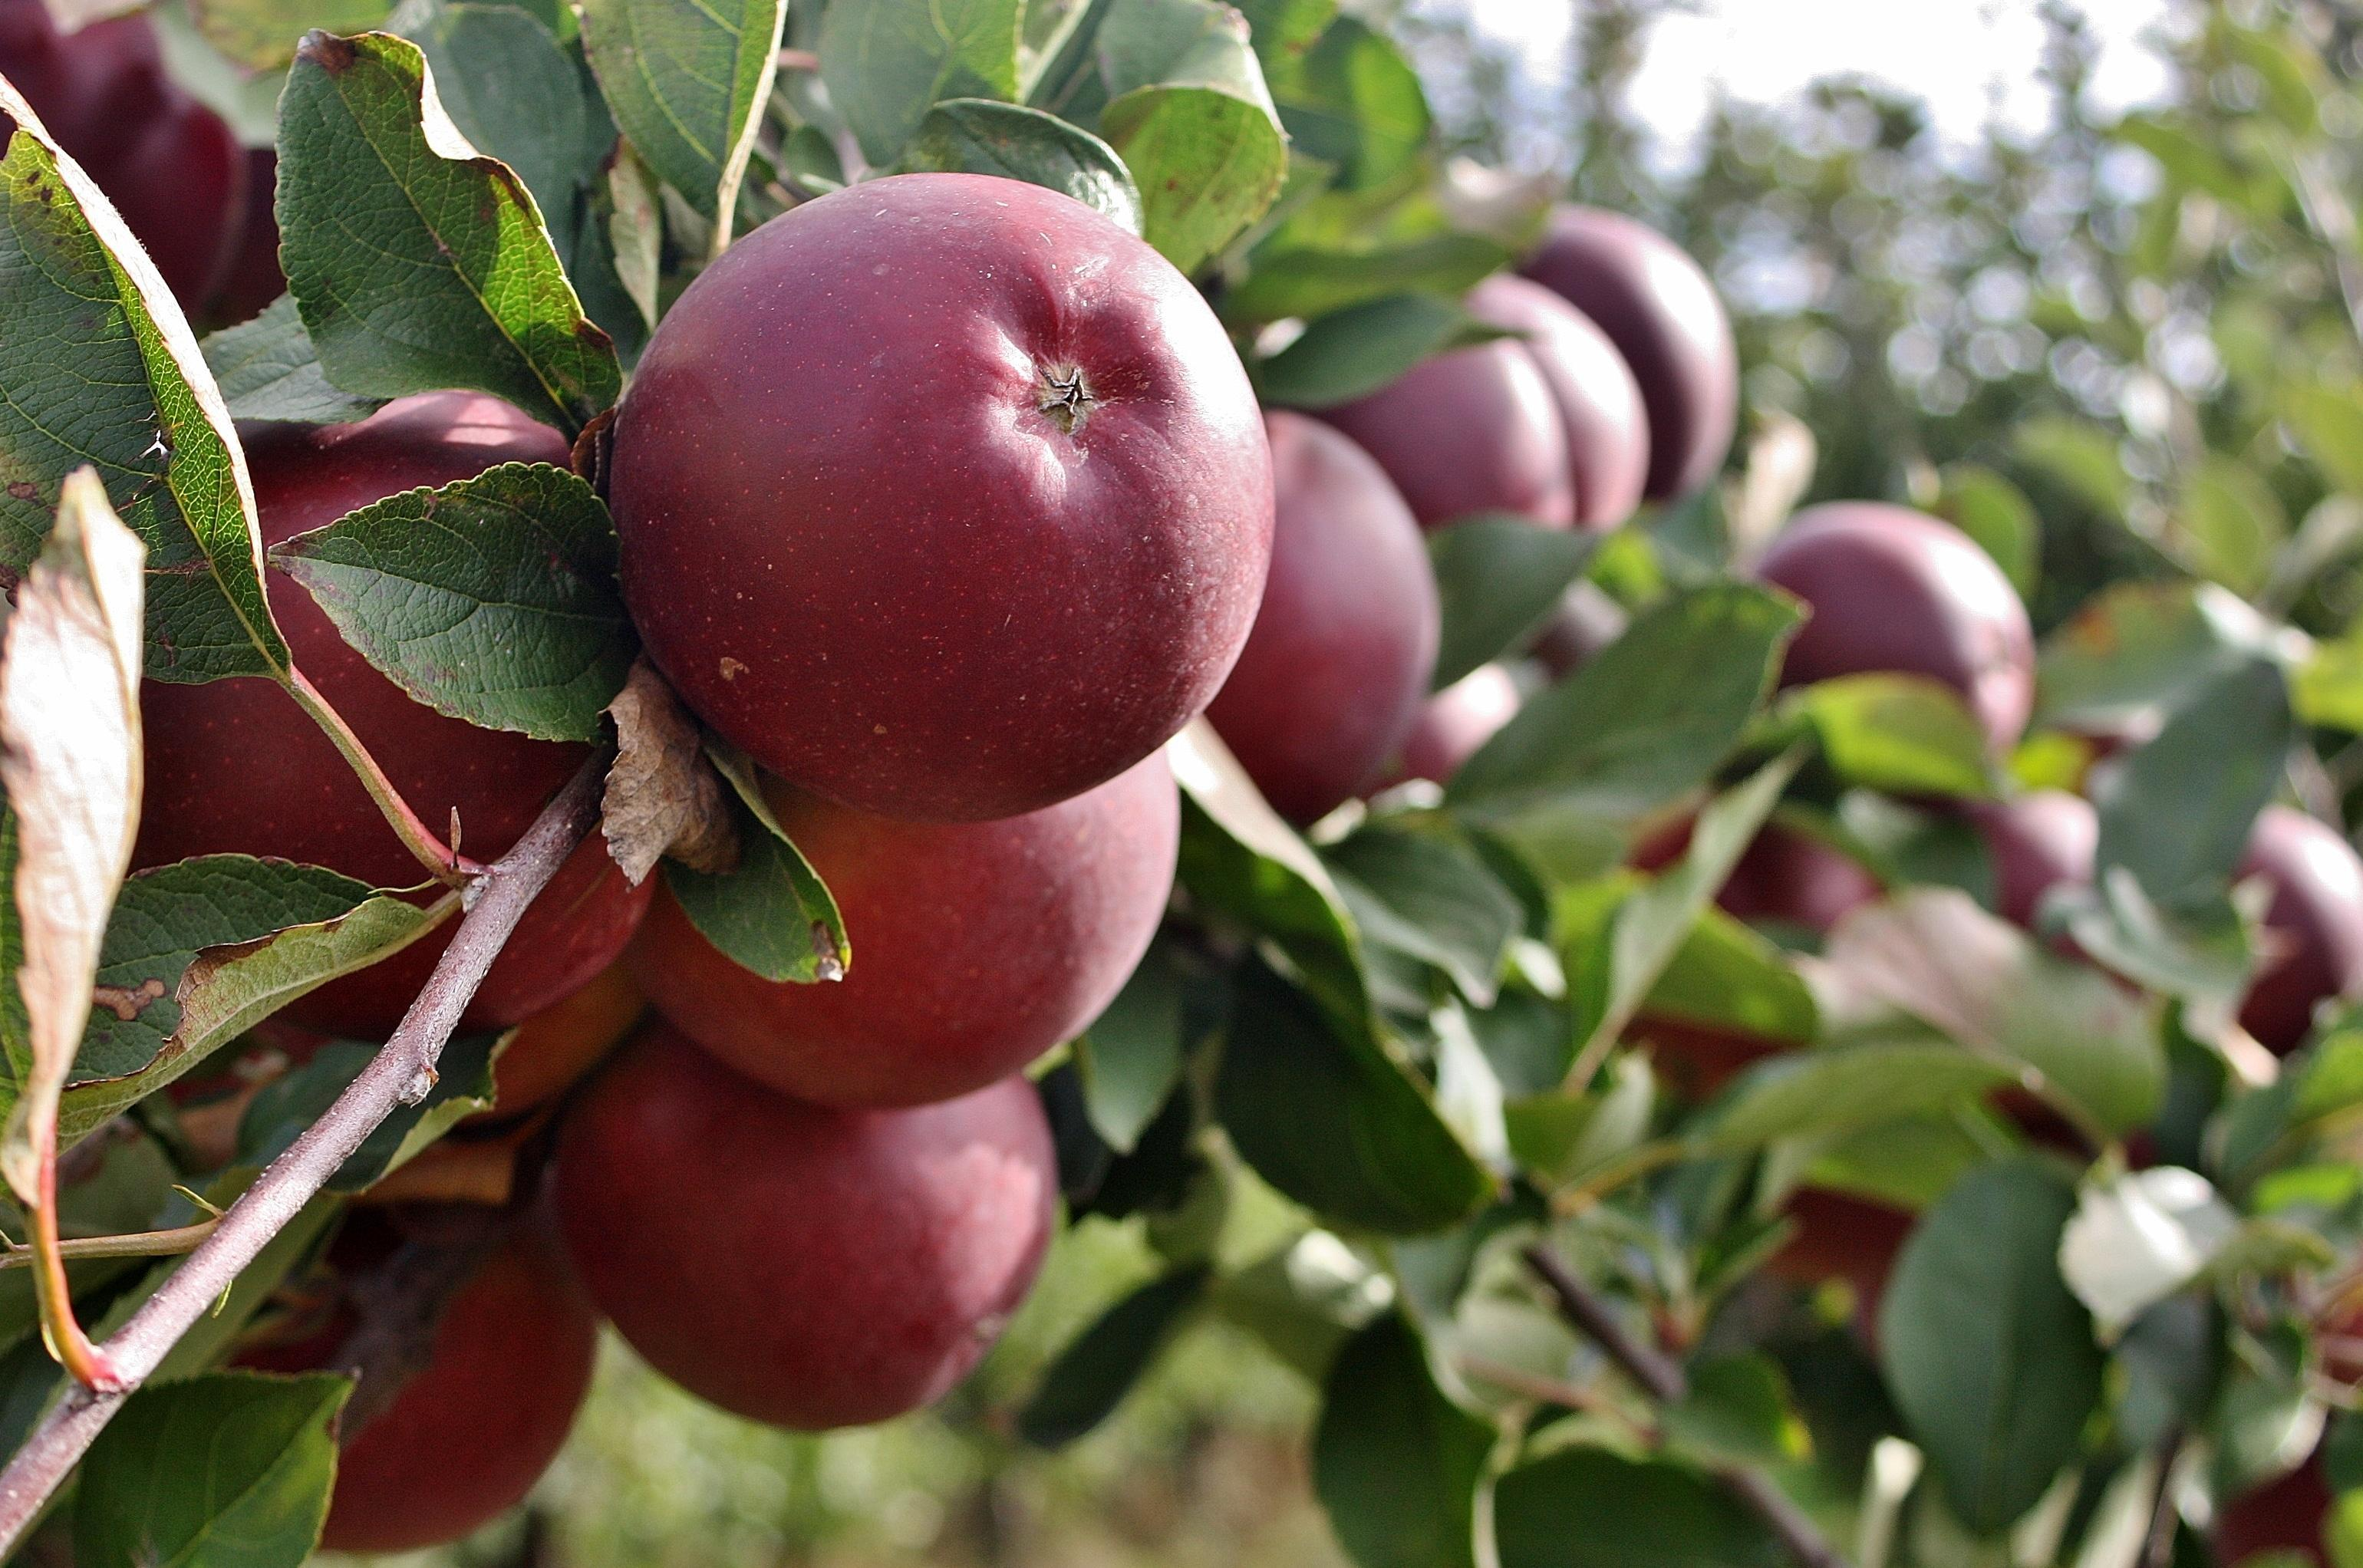apple: (592, 159, 1274, 822), (550, 992, 1045, 1431), (649, 752, 1162, 1111)
